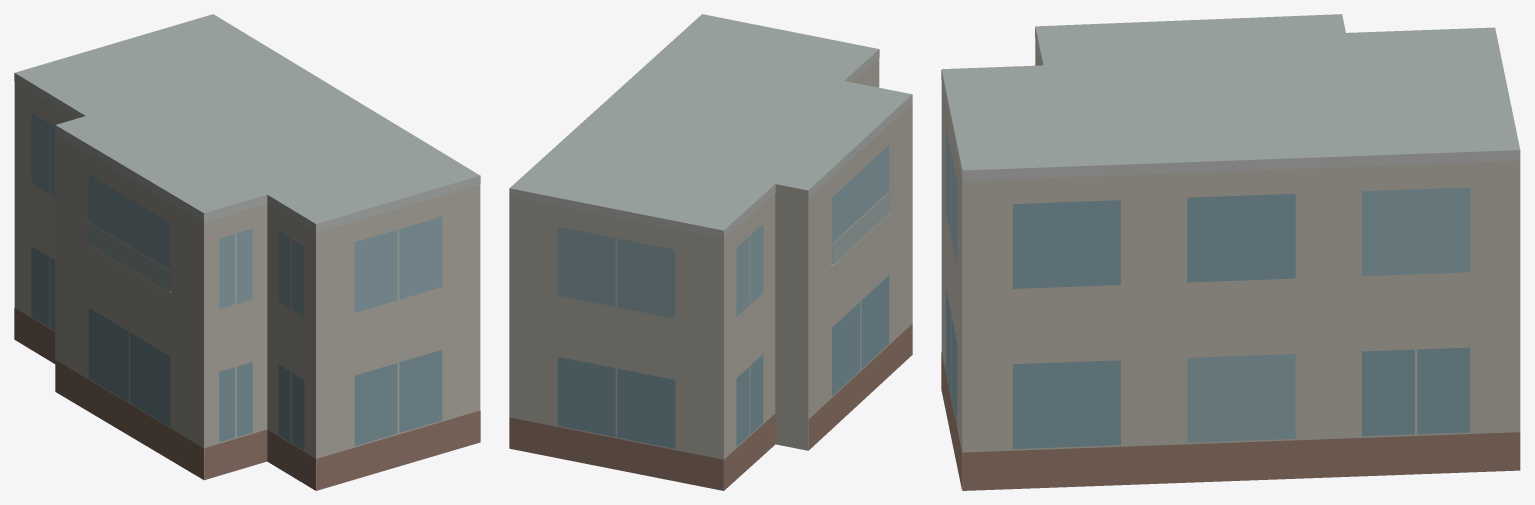
File: survey-upis-32750741.glb
The picture shows the model from 3 angles, left to right: view 1: azimuth 30°, elevation 25°; view 2: azimuth 150°, elevation 25°; view 3: azimuth 270°, elevation 25°; orthographic projection. The views are drawn at different scales.
Parts seen in each view (by area): view 1: survey-upis-32750741.tmp; view 2: survey-upis-32750741.tmp; view 3: survey-upis-32750741.tmp.
Boxes of the visible parts, box(x1,y1,x2,y2) form: survey-upis-32750741.tmp: box(14, 14, 480, 490); survey-upis-32750741.tmp: box(509, 14, 912, 490); survey-upis-32750741.tmp: box(941, 14, 1520, 490).
Bounding box in the file's own units: 7.65 × 7.3 × 11.96.
